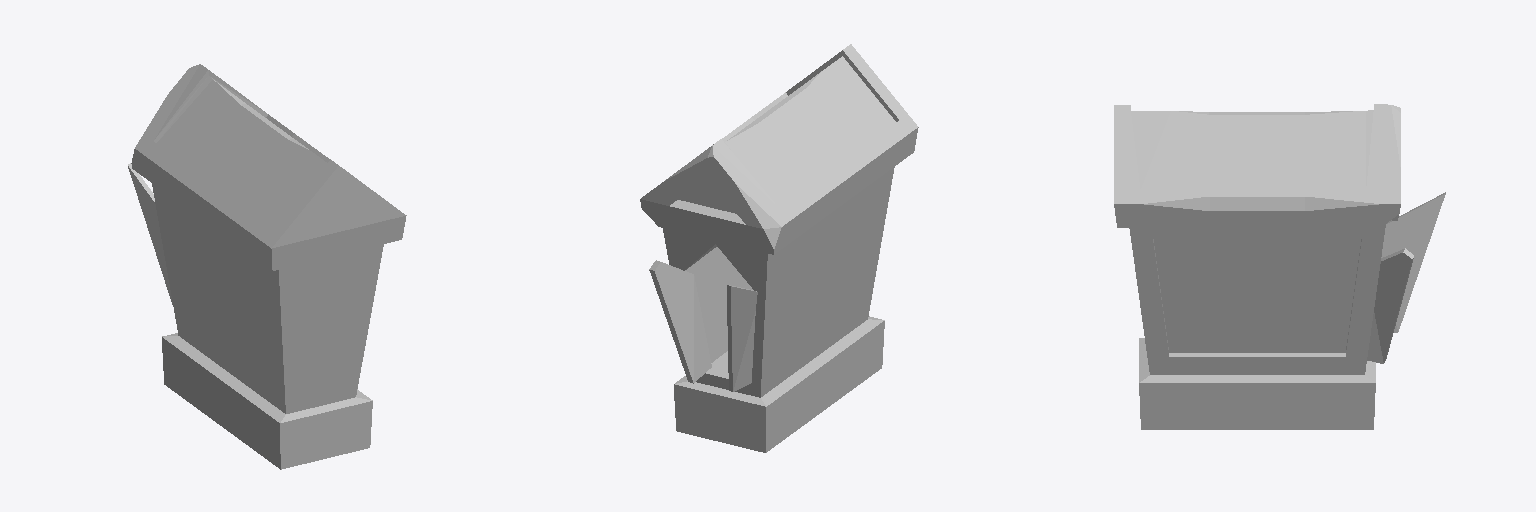
File: caveHigh.obj
3 renders of one model, left to right at view 1: azimuth 30°, elevation 25°; view 2: azimuth 150°, elevation 25°; view 3: azimuth 270°, elevation 25°, orthographic.
Parts seen in each view (by area): view 1: Buidling; view 2: Buidling; view 3: Buidling.
Part boxes in pixels (x1,y1,x2,y2): Buidling: (128, 64, 406, 469); Buidling: (640, 44, 918, 452); Buidling: (1114, 104, 1445, 429).
Size of the model in its own units: 2.9 by 6.24 by 6.18.